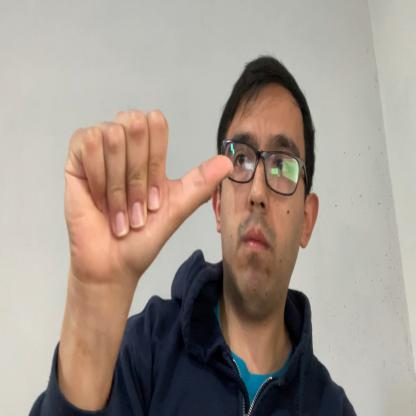A: (64, 107, 233, 288)
